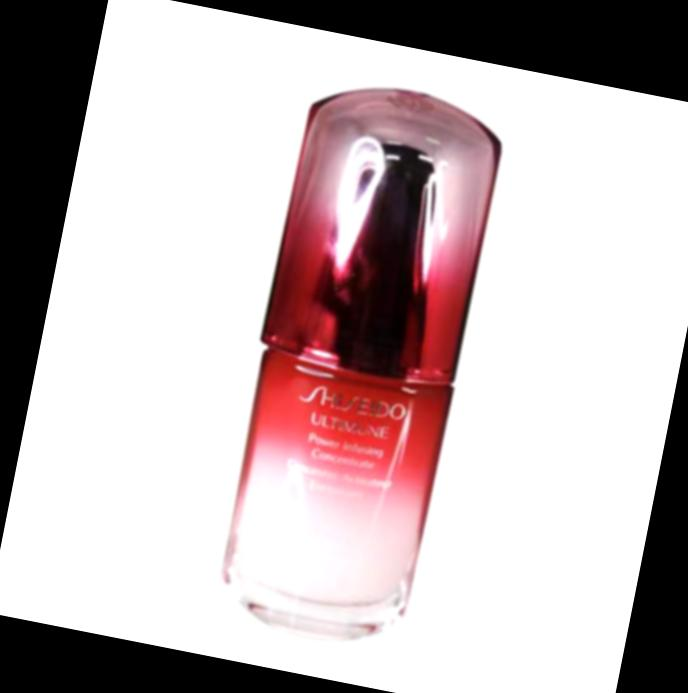cosmetic: (204, 66, 514, 652)
